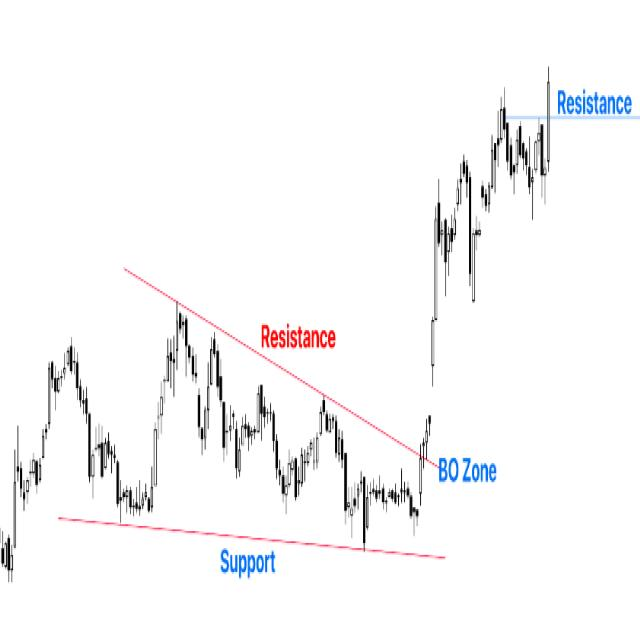Falling-Wedge: (0, 231, 452, 550)
